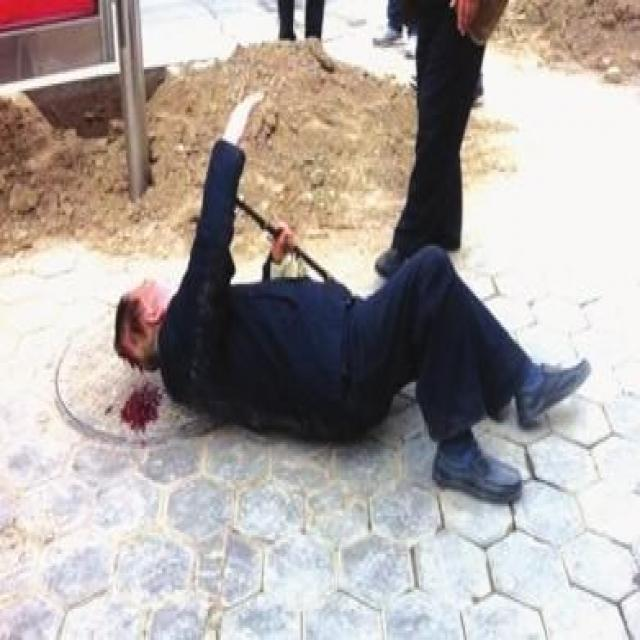fall: (97, 77, 596, 500)
